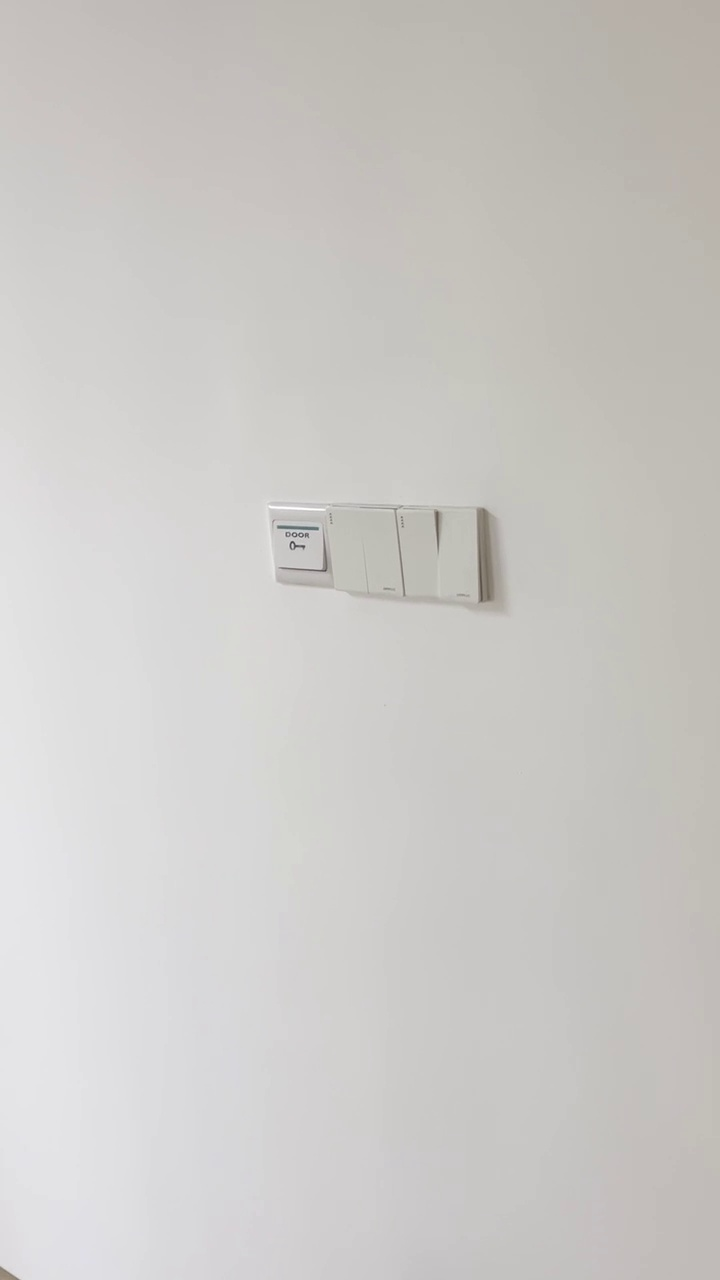button: (398, 503, 490, 606), (325, 502, 409, 604)
